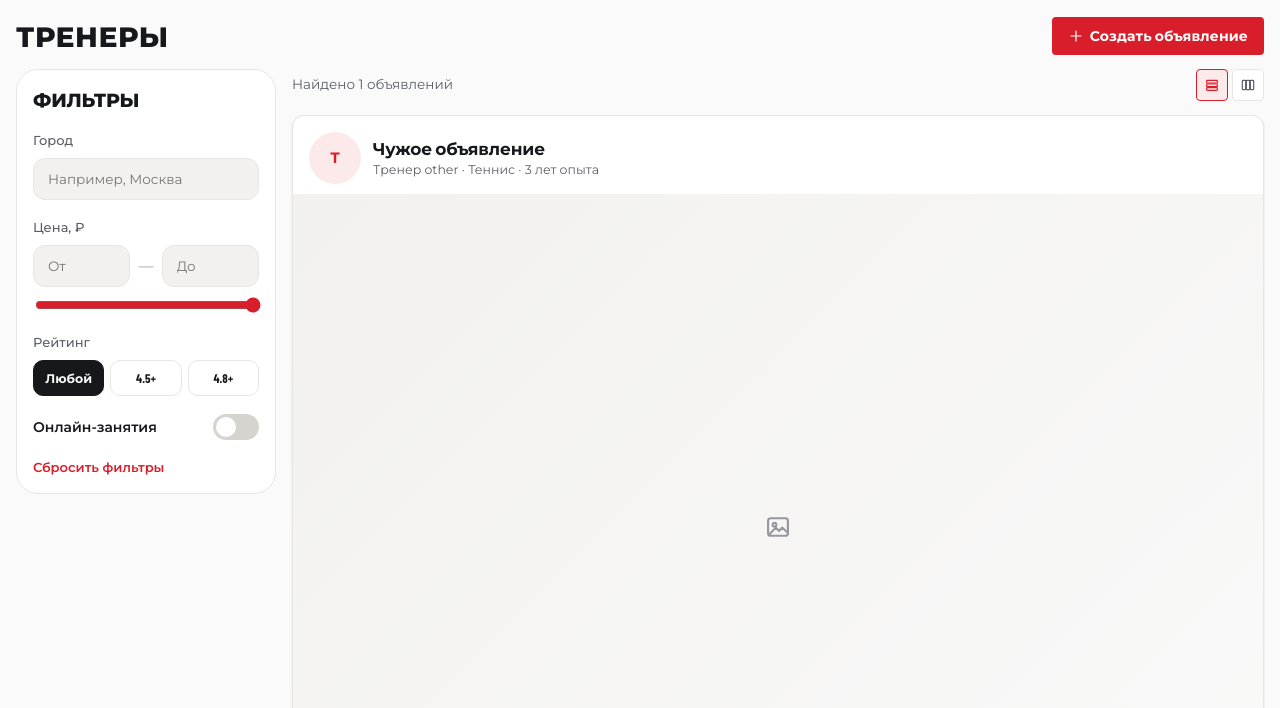
Test: the coaches tab for a coach › offers «Создать объявление» and opens the new-listing form right there
Expected: the heading "Чужое объявление" is shown, [373,138,545,158]
Click the button "Создать объявление" at (1158, 36), box [1052,17,1264,55]
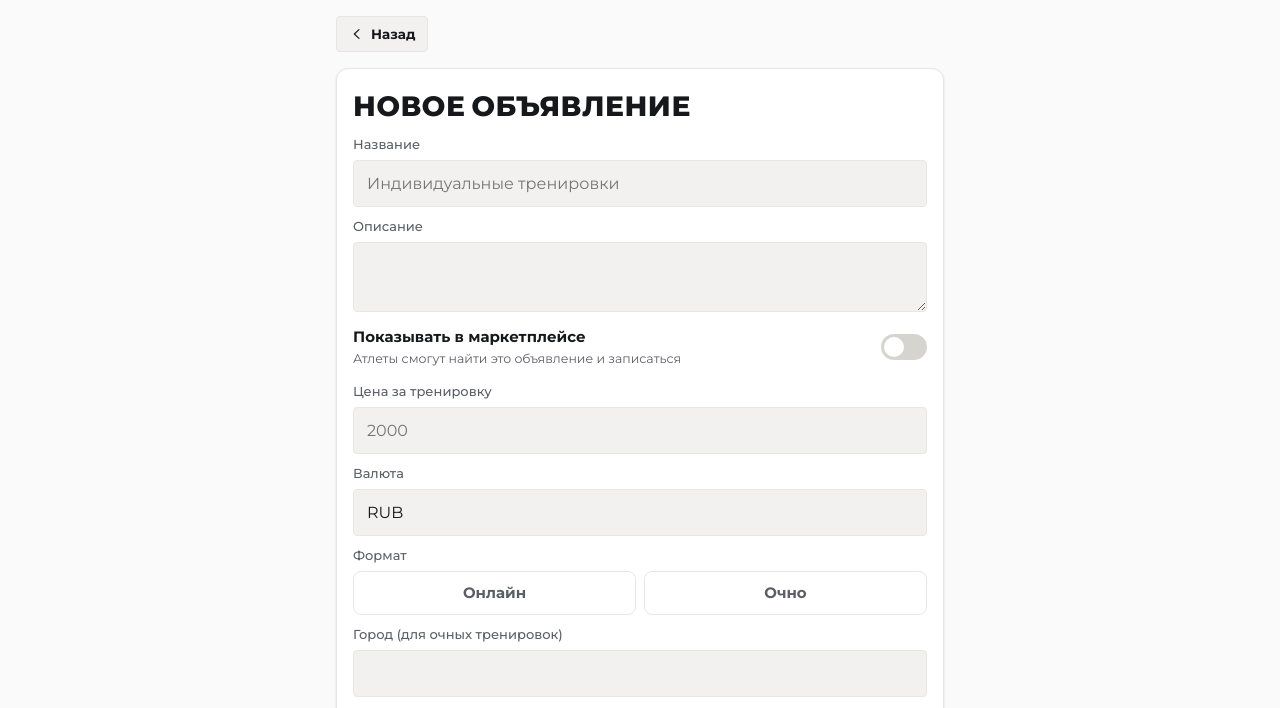
Expected: the heading "Новое объявление" is shown, [353,88,691,122]
Click the button "Назад" at (382, 34), box [336,16,428,52]
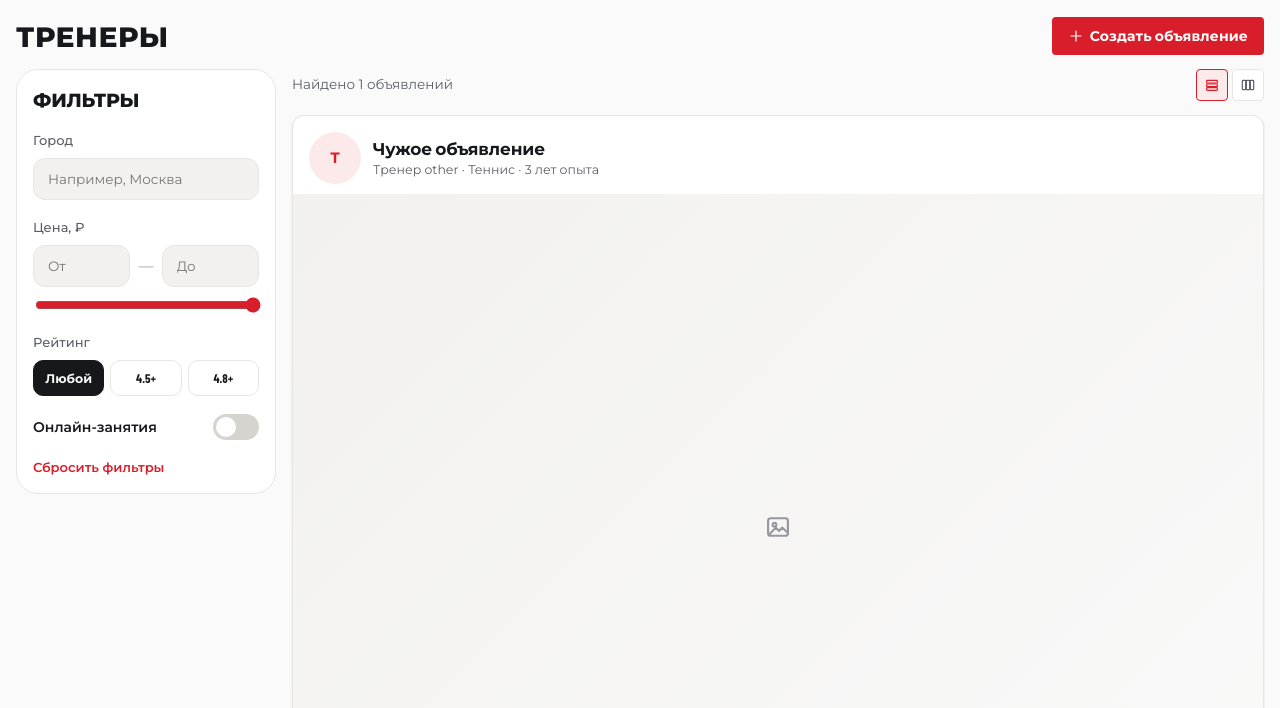
Expected: the heading "Чужое объявление" is shown, [373,138,545,158]
